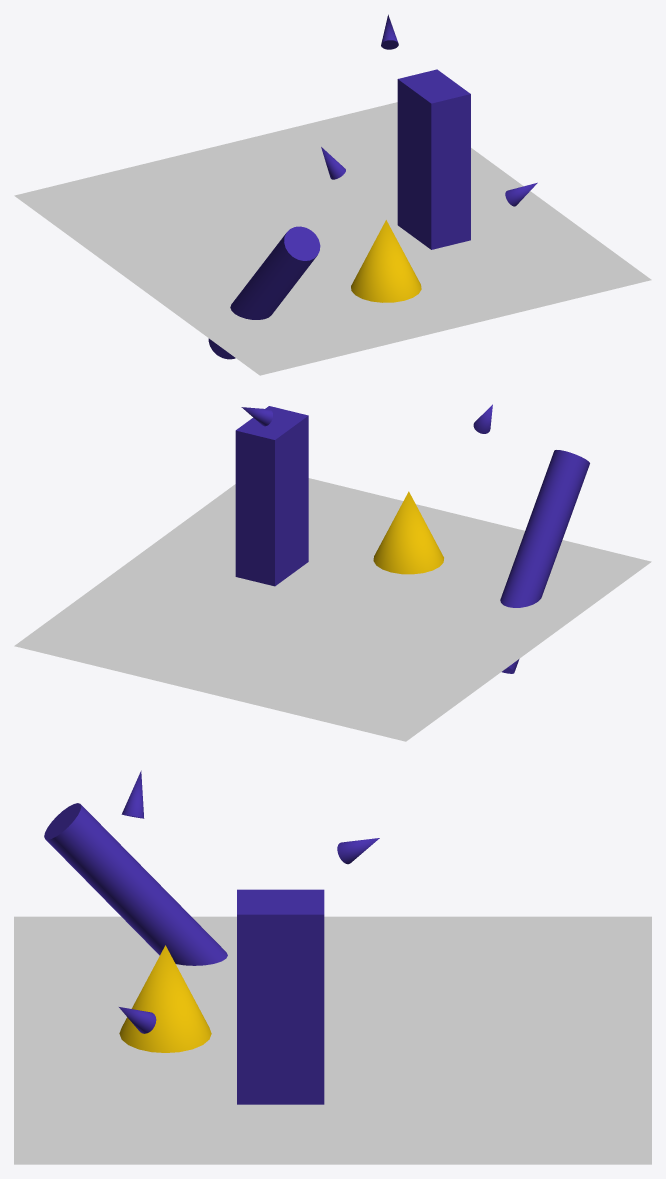
Rendered from simpleScene.fbx.
3 renders of one model, top to bottom at view 1: azimuth 30°, elevation 25°; view 2: azimuth 150°, elevation 25°; view 3: azimuth 270°, elevation 25°, orthographic. The views are drawn at different scales.
Visible parts, largest first — view 1: o_plane1, o_box, o_cylinder, o_cone1; view 2: o_plane1, o_box, o_cylinder, o_cone1; view 3: o_plane1, o_box, o_cylinder, o_cone1, o_light2_SpotLight, o_light3_SpotLight, o_light1_SpotLight.
Part boxes in pixels (x1,y1,x2,y2): o_plane1: [14, 102, 651, 375]; o_box: [397, 69, 470, 249]; o_cylinder: [208, 226, 320, 359]; o_cone1: [351, 220, 421, 302]; o_plane1: [14, 478, 651, 741]; o_box: [235, 406, 308, 586]; o_cylinder: [500, 450, 589, 673]; o_cone1: [373, 491, 443, 574]; o_plane1: [14, 916, 651, 1164]; o_box: [237, 889, 324, 1104]; o_cylinder: [44, 803, 227, 965]; o_cone1: [119, 945, 211, 1052]; o_light2_SpotLight: [337, 838, 379, 864]; o_light3_SpotLight: [121, 770, 144, 818]; o_light1_SpotLight: [119, 1007, 156, 1033].
Size of the model in its own units: 32.93 by 20.42 by 35.79.
